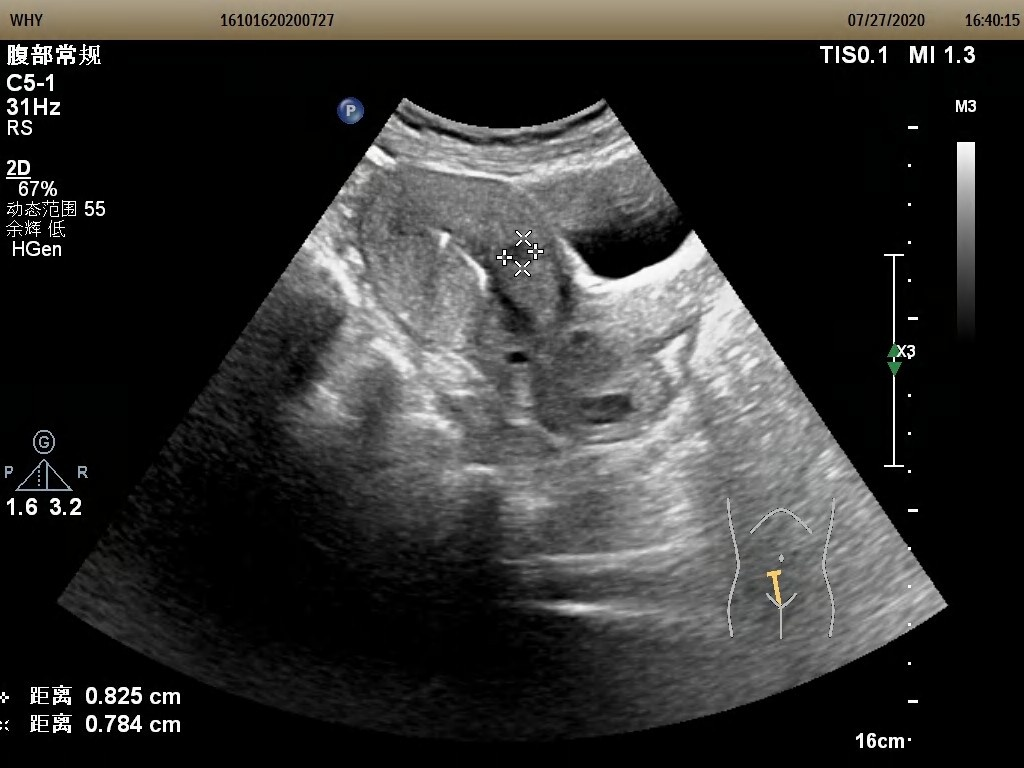肌瘤: (506, 241, 535, 265)
